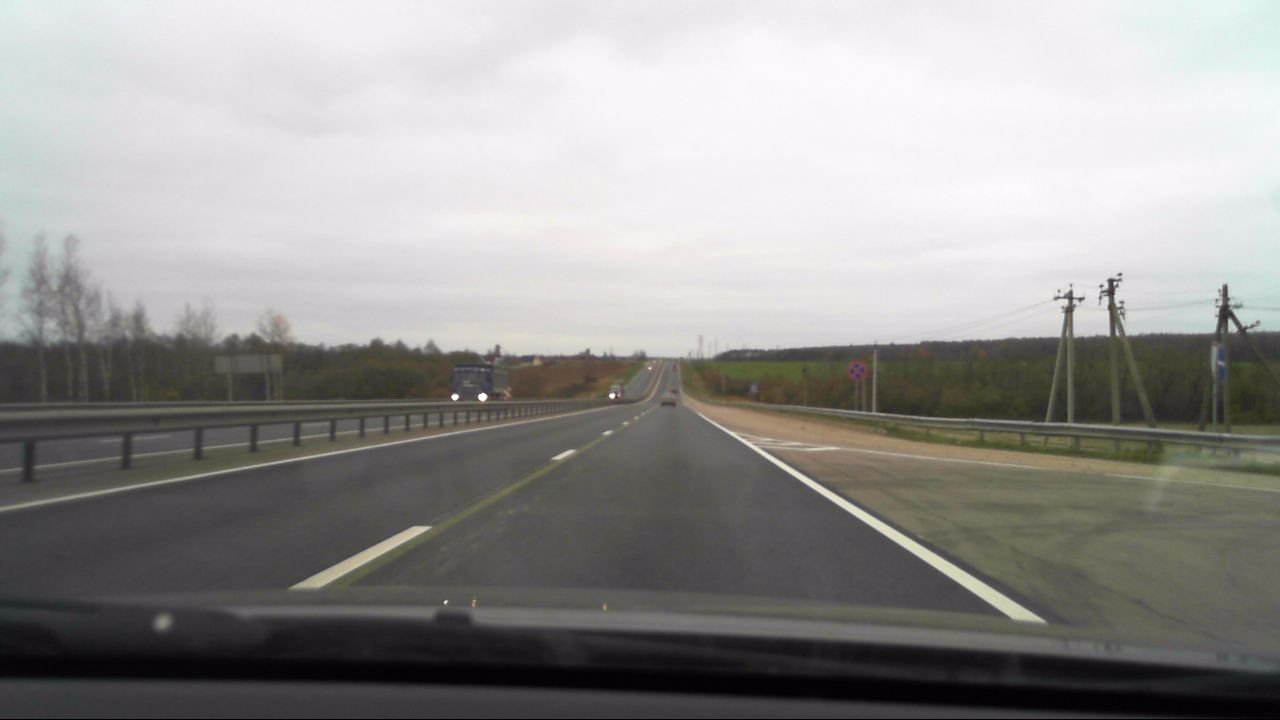No Parking: (846, 360, 866, 382)
